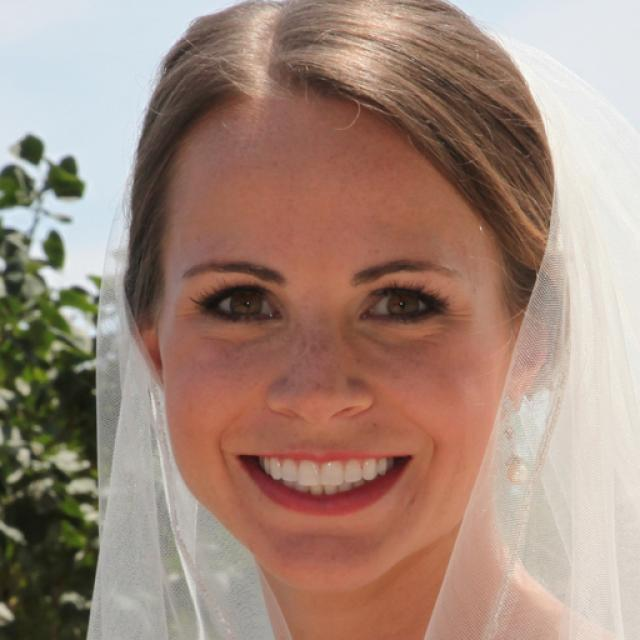Pigmentation: (282, 312, 344, 395)
